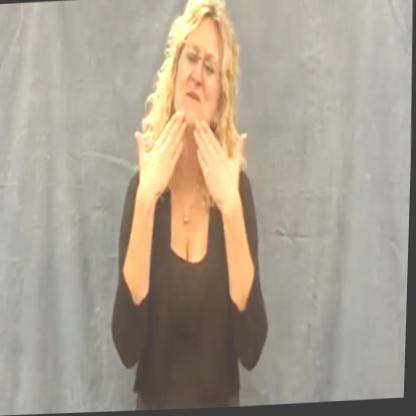ThankYou: (126, 0, 214, 216)
